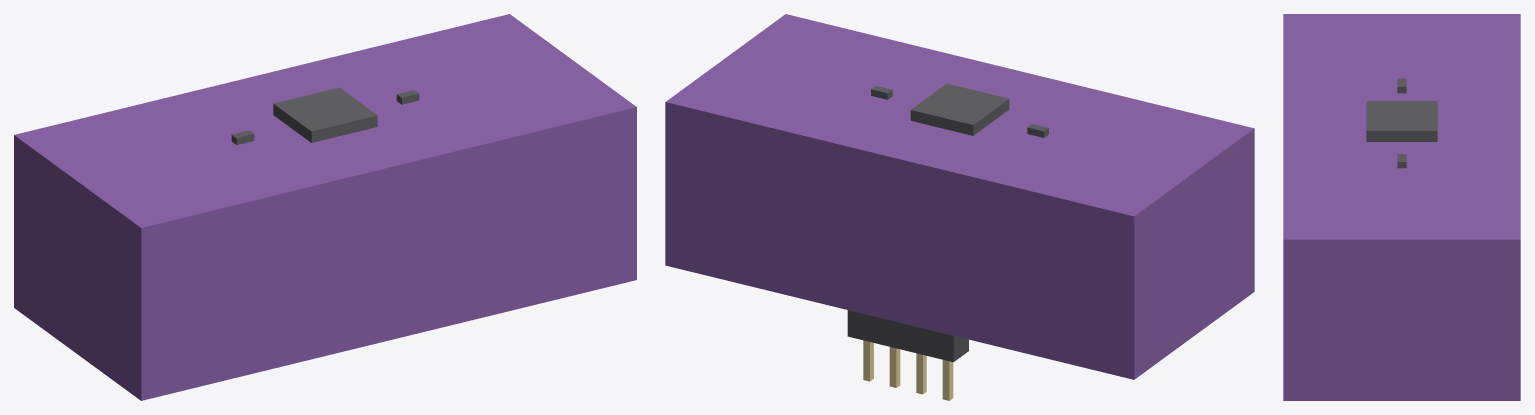
File: hcsr04.glb
3 renders of one model, left to right at view 1: azimuth 30°, elevation 25°; view 2: azimuth 150°, elevation 25°; view 3: azimuth 270°, elevation 25°, orthographic. The views are drawn at different scales.
Visible parts, largest first — view 1: hcsr04-pcb, hcsr04-ic; view 2: hcsr04-pcb, hcsr04-ic, hcsr04-plastic, hcsr04-pins; view 3: hcsr04-pcb, hcsr04-ic.
Part boxes in pixels (box(x1,y1,x2,y2)): hcsr04-pcb: box(14, 14, 636, 400); hcsr04-ic: box(231, 87, 419, 144); hcsr04-pcb: box(665, 14, 1254, 379); hcsr04-ic: box(871, 83, 1048, 137); hcsr04-plastic: box(847, 310, 968, 362); hcsr04-pins: box(863, 340, 953, 400); hcsr04-pcb: box(1283, 14, 1520, 400); hcsr04-ic: box(1366, 78, 1437, 168).
Bounding box in the file's own units: 0.045 × 0.0227 × 0.02.
